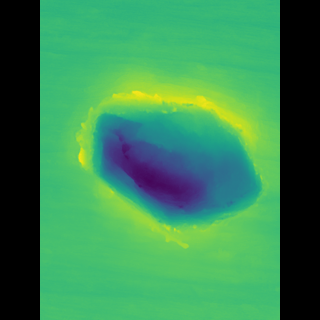Loch: (82, 72, 249, 248)
